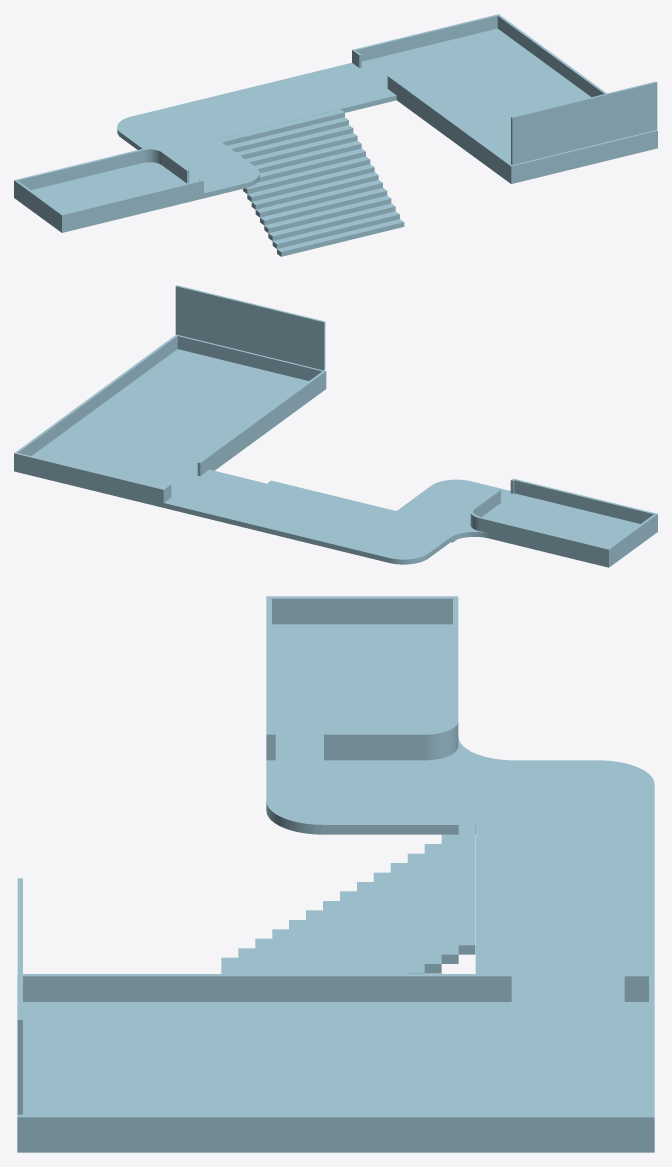
File: testModel.fbx
3 views of the same model, one above another, from view 1: azimuth 30°, elevation 25°; view 2: azimuth 150°, elevation 25°; view 3: azimuth 270°, elevation 25° (orthographic). The views are drawn at different scales.
Parts seen in each view (by area): view 1: 物件_155, 物件_154, 物件_153, 立方体, 物件_212, 物件_181, 物件_213, 物件_163, 物件_166, 物件_167, 物件_169, 物件_170 (+10 smaller); view 2: 物件_155, 物件_154, 物件_153, 立方体, 物件_212, 物件_181, 物件_213, 物件_156; view 3: 物件_155, 物件_153, 物件_154, 物件_212, 物件_213, 物件_181, 物件_156, 物件_158, 物件_157, 物件_159, 物件_160, 物件_161 (+6 smaller).
Boxes of the visible parts, left/top/right/bottom form: 物件_155: left=359, top=28, right=657, bottom=183; 物件_154: left=173, top=63, right=396, bottom=138; 物件_153: left=352, top=14, right=657, bottom=179; 立方体: left=511, top=81, right=657, bottom=164; 物件_212: left=117, top=106, right=259, bottom=198; 物件_181: left=14, top=148, right=203, bottom=227; 物件_213: left=14, top=162, right=203, bottom=232; 物件_163: left=247, top=164, right=374, bottom=201; 物件_166: left=260, top=187, right=387, bottom=225; 物件_167: left=264, top=195, right=391, bottom=233; 物件_169: left=272, top=211, right=399, bottom=248; 物件_170: left=277, top=219, right=404, bottom=256; 物件_155: left=14, top=349, right=326, bottom=507; 物件_154: left=163, top=469, right=391, bottom=552; 物件_153: left=14, top=334, right=326, bottom=502; 立方体: left=175, top=285, right=325, bottom=370; 物件_212: left=346, top=479, right=510, bottom=564; 物件_181: left=470, top=478, right=657, bottom=562; 物件_213: left=482, top=493, right=657, bottom=567; 物件_156: left=267, top=480, right=395, bottom=513; 物件_155: left=17, top=999, right=654, bottom=1152; 物件_153: left=17, top=974, right=654, bottom=1142; 物件_154: left=475, top=825, right=654, bottom=999; 物件_212: left=266, top=737, right=654, bottom=834; 物件_213: left=272, top=624, right=452, bottom=760; 物件_181: left=266, top=596, right=458, bottom=760; 物件_156: left=458, top=825, right=475, bottom=954; 物件_158: left=424, top=844, right=441, bottom=973; 物件_157: left=441, top=834, right=458, bottom=963; 物件_159: left=407, top=853, right=424, bottom=973; 物件_160: left=390, top=863, right=407, bottom=973; 物件_161: left=373, top=872, right=390, bottom=973.
Size of the model in its own units: 2183 by 517 by 1128.
